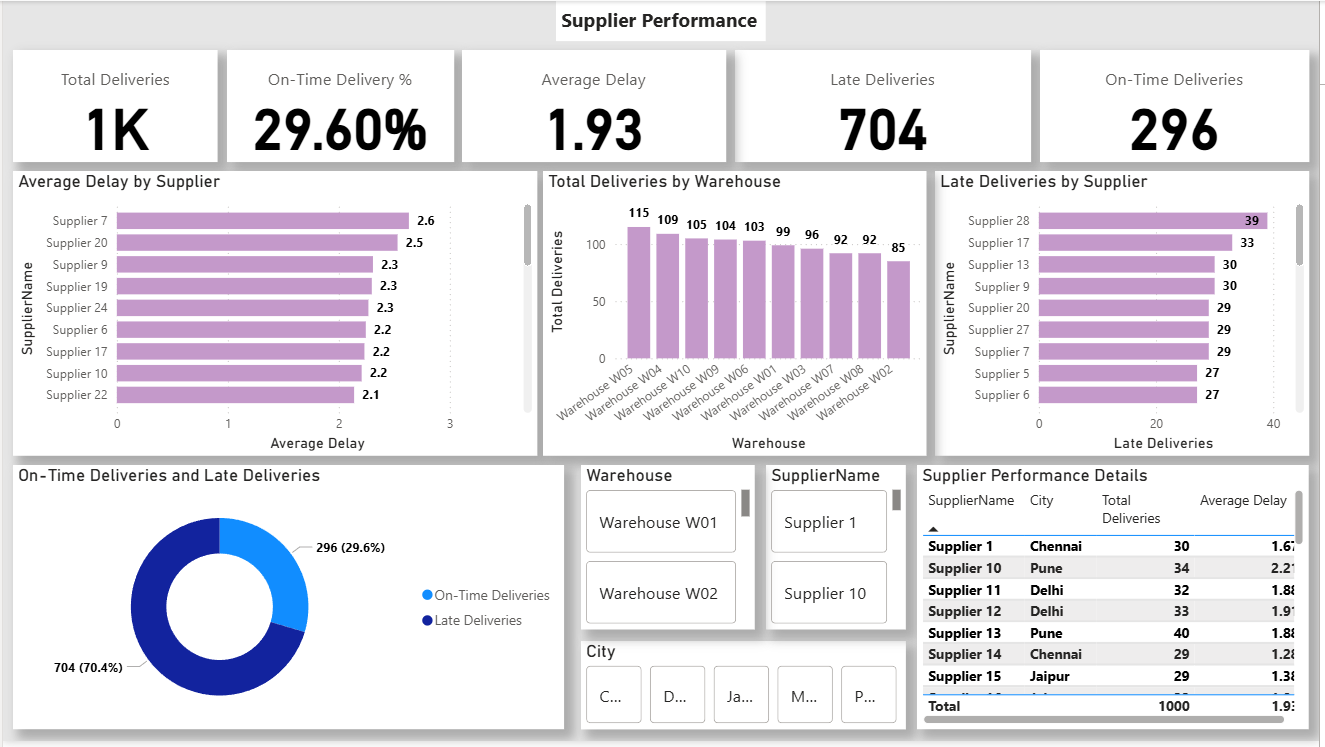

The dashboard page shown, as its layout file describes it:
{"tool":"powerbi","page":{"name":"Page 3","canvas":[1280,720],"ordinal":2},"visuals":[{"type":"cardVisual","fields":{"Data":["deliveries.Total Deliveries"]},"box":[9.7,47.7,199.4,108.9],"z":0},{"type":"cardVisual","fields":{"Data":["deliveries.Late Deliveries"]},"box":[712,47.7,287.9,108.9],"z":1000},{"type":"cardVisual","fields":{"Data":["deliveries.On-Time Deliveries"]},"box":[1008.6,47.7,261.6,108.9],"z":2000},{"type":"cardVisual","fields":{"Data":["deliveries.On-Time Delivery %"]},"box":[217.9,47.7,220.8,108.9],"z":3000},{"type":"cardVisual","fields":{"Data":["deliveries.Average Delay"]},"box":[446.4,47.7,256.8,108.9],"z":4000},{"type":"clusteredBarChart","title":"Average Delay by Supplier","fields":{"Category":["suppliers.SupplierName"],"Y":["deliveries.Average Delay"]},"box":[9.7,165.3,509.7,277.2],"z":5000},{"type":"clusteredBarChart","title":"Late Deliveries by Supplier","fields":{"Category":["suppliers.SupplierName"],"Y":["deliveries.Late Deliveries"]},"box":[906.5,165.3,363.8,277.2],"z":6000},{"type":"clusteredColumnChart","fields":{"Category":["warehouses.Warehouse"],"Y":["deliveries.Total Deliveries"]},"box":[525.2,165.3,373.5,277.2],"z":7000},{"type":"donutChart","fields":{"Y":["deliveries.On-Time Deliveries","deliveries.Late Deliveries"]},"box":[9.7,451.3,535.9,256.8],"z":8000},{"type":"textbox","box":[537.9,0,204.3,38.9],"z":9000},{"type":"advancedSlicerVisual","fields":{"Values":["suppliers.City"]},"box":[562.2,622.5,316.1,85.6],"z":10000},{"type":"advancedSlicerVisual","fields":{"Values":["suppliers.SupplierName"]},"box":[742.1,451.3,136.2,160.5],"z":11000},{"type":"tableEx","title":"Supplier Performance Details","fields":{"Values":["suppliers.SupplierName","suppliers.City","deliveries.Total Deliveries","deliveries.Average Delay"]},"box":[889,451.3,381.3,256.8],"z":12000},{"type":"advancedSlicerVisual","fields":{"Values":["warehouses.Warehouse"]},"box":[562.2,451.3,169.2,160.5],"z":13000}]}

Visuals, with their boxes in screenshot pixels (x1, y1, x2, y2), scaled from the page's 1280x720 canvas onto the 1325x747 screenshot:
cardVisual - deliveries.Total Deliveries: bbox=(10, 49, 216, 162)
cardVisual - deliveries.Late Deliveries: bbox=(737, 49, 1035, 162)
cardVisual - deliveries.On-Time Deliveries: bbox=(1044, 49, 1315, 162)
cardVisual - deliveries.On-Time Delivery %: bbox=(226, 49, 454, 162)
cardVisual - deliveries.Average Delay: bbox=(462, 49, 728, 162)
"Average Delay by Supplier" clusteredBarChart: bbox=(10, 171, 538, 459)
"Late Deliveries by Supplier" clusteredBarChart: bbox=(938, 171, 1315, 459)
clusteredColumnChart - warehouses.Warehouse x deliveries.Total Deliveries: bbox=(544, 171, 930, 459)
donutChart - deliveries.On-Time Deliveries x deliveries.Late Deliveries: bbox=(10, 468, 565, 735)
textbox: bbox=(557, 0, 768, 40)
advancedSlicerVisual - suppliers.City: bbox=(582, 646, 909, 735)
advancedSlicerVisual - suppliers.SupplierName: bbox=(768, 468, 909, 635)
"Supplier Performance Details" tableEx: bbox=(920, 468, 1315, 735)
advancedSlicerVisual - warehouses.Warehouse: bbox=(582, 468, 757, 635)
